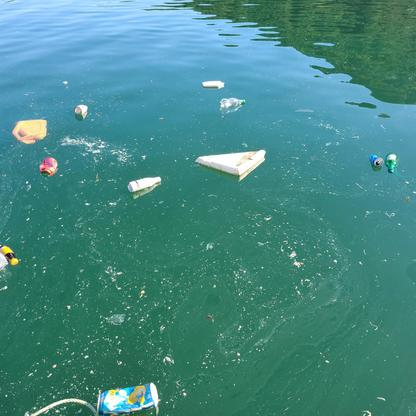can: (96, 385, 162, 412), (38, 156, 58, 175), (364, 151, 385, 168)
foam: (195, 145, 266, 178), (199, 79, 227, 88)
plastic bottle: (126, 175, 162, 193), (221, 98, 247, 108), (386, 154, 398, 175)
